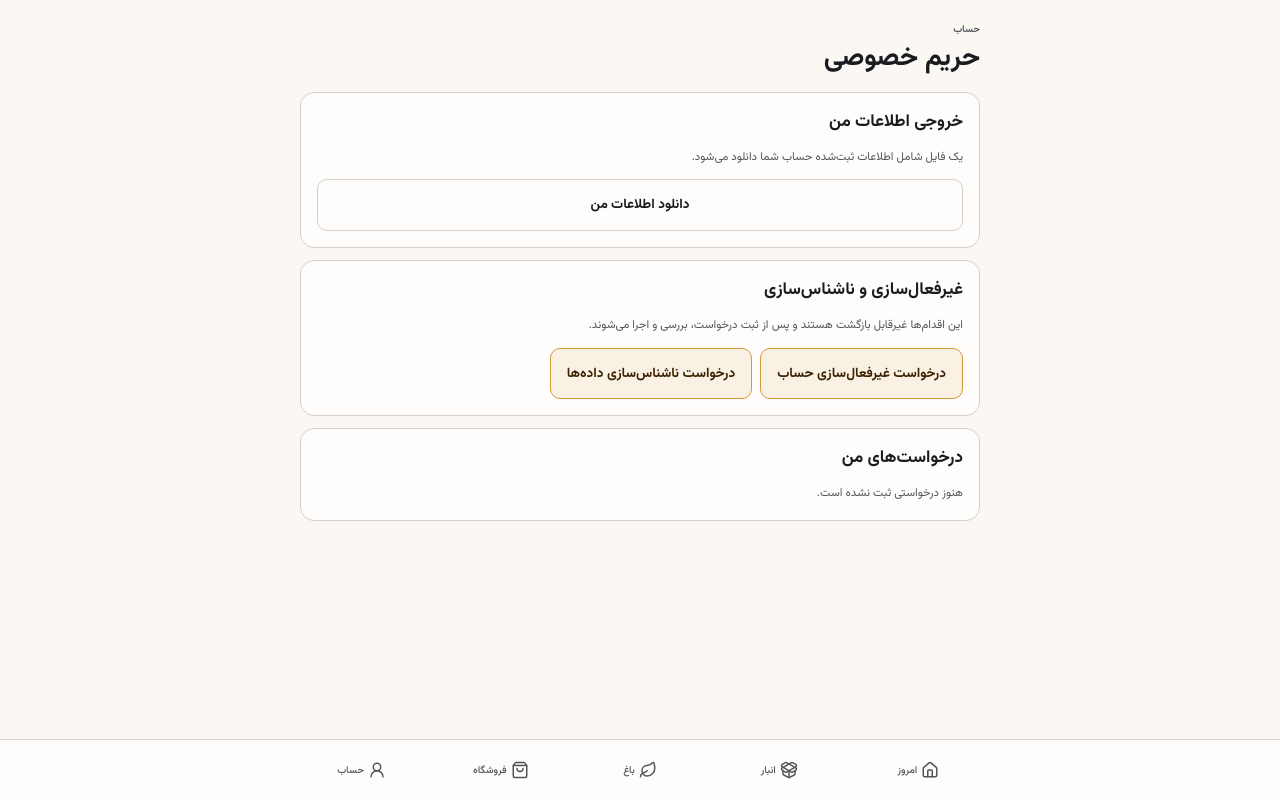
Test: PrivacyCenter › requires confirmation before submitting an irreversible disable request
Click the button "درخواست غیرفعال‌سازی حساب" at (862, 373), box [760, 348, 963, 399]
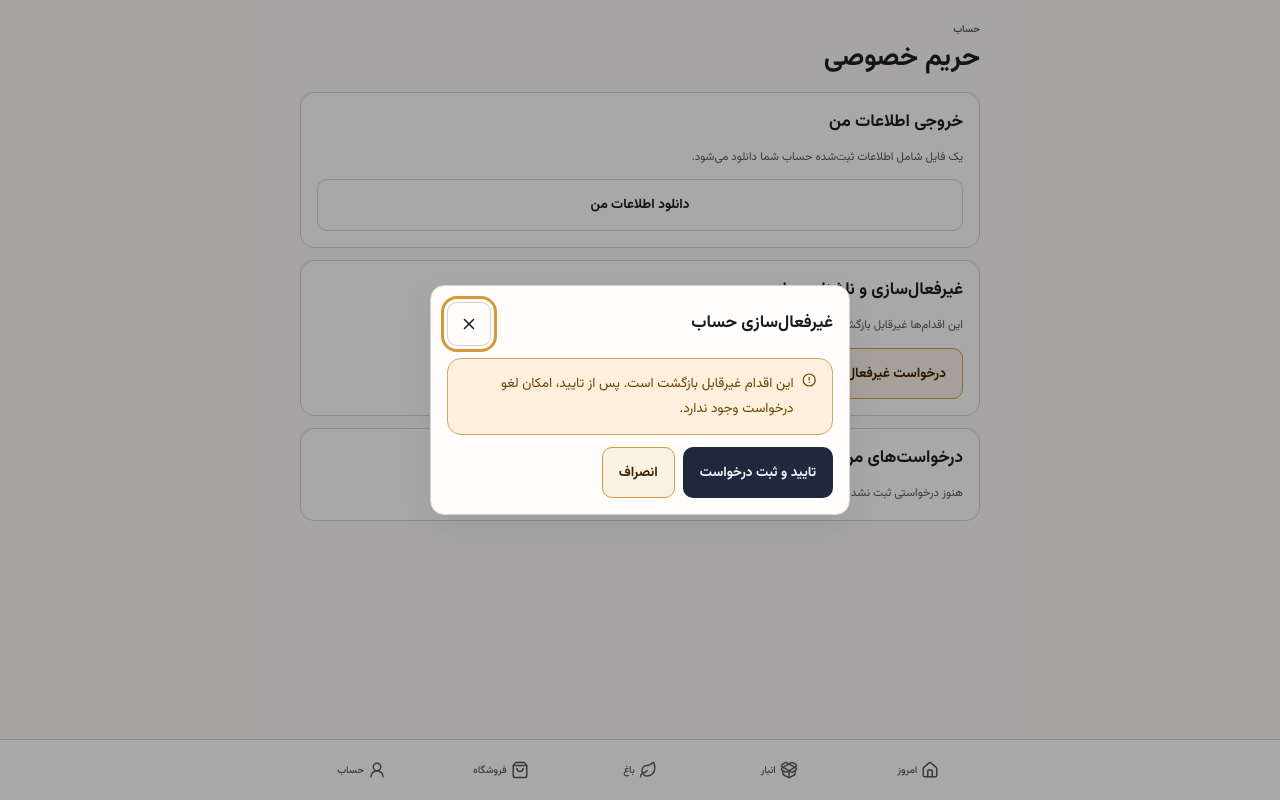
Expected: the text "این اقدام غیرقابل بازگشت است" is shown, [501, 372, 794, 419]
Click the button "تایید و ثبت درخواست" at (758, 473), box [683, 447, 833, 498]
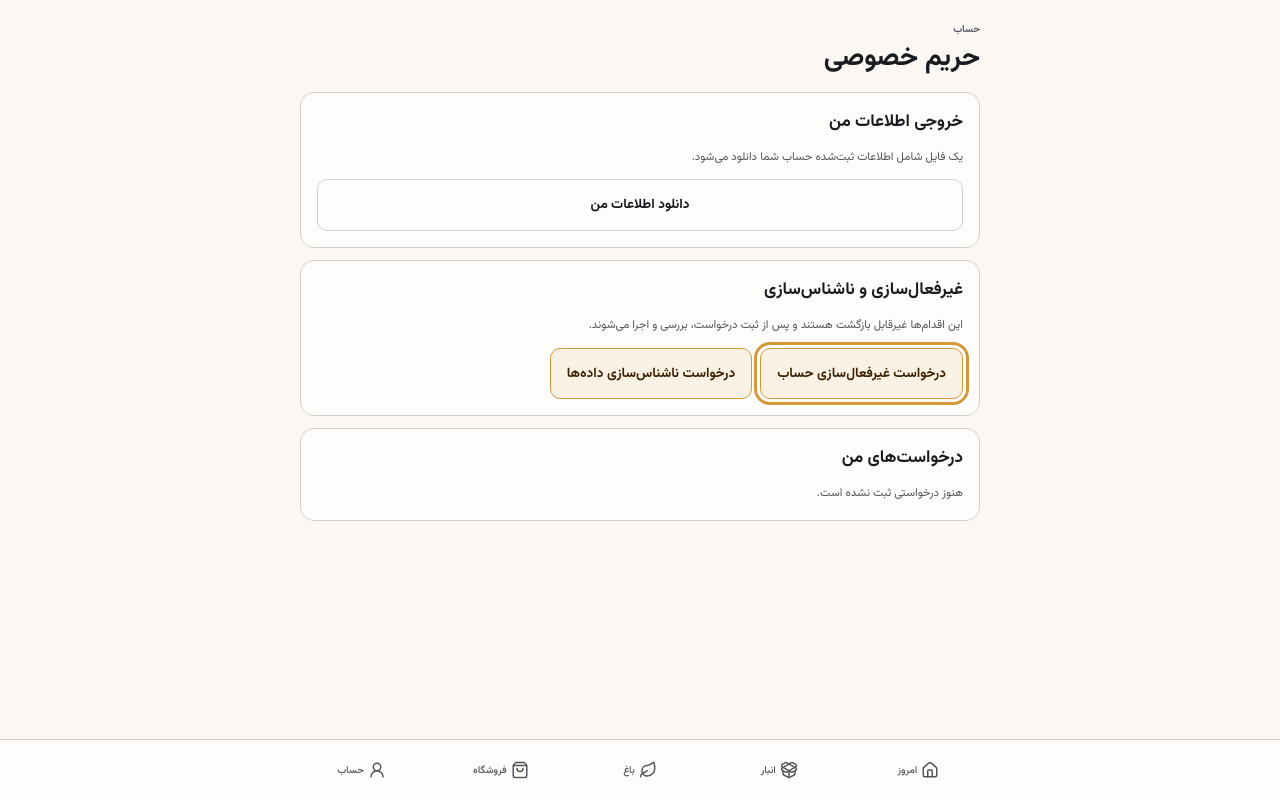
Expected: the text "این اقدام غیرقابل بازگشت است" is gone
